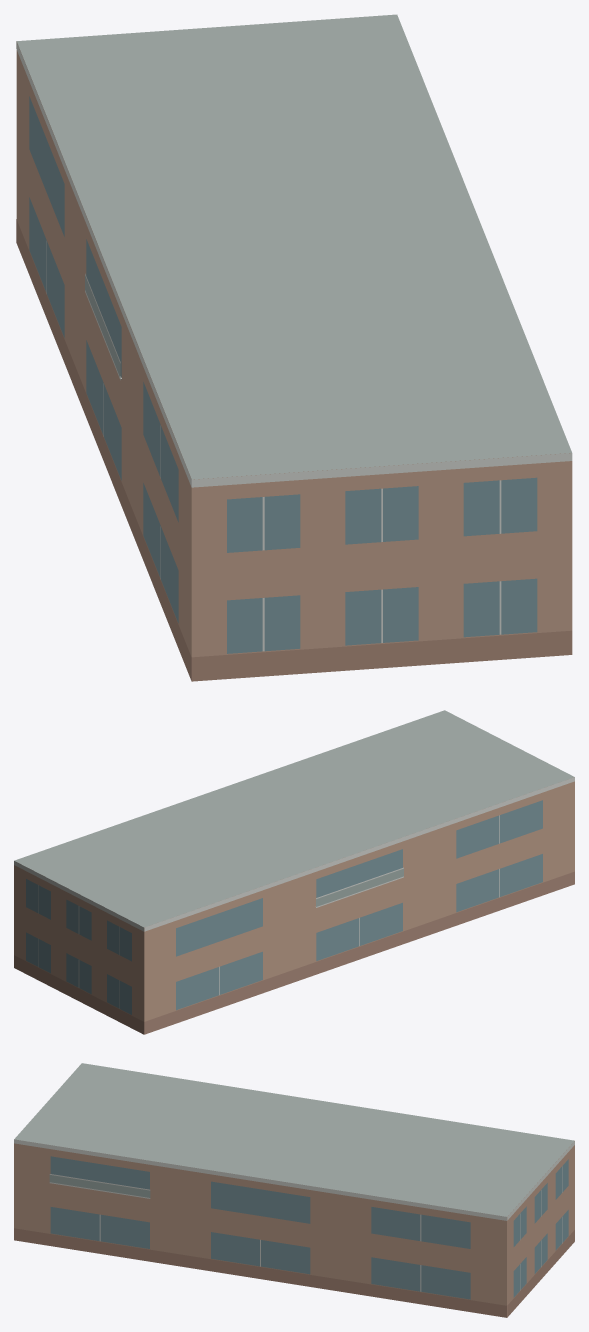
Rendered from survey-upis-32665504.glb.
3 renders of one model, top to bottom at view 1: azimuth 30°, elevation 25°; view 2: azimuth 150°, elevation 25°; view 3: azimuth 270°, elevation 25°, orthographic. The views are drawn at different scales.
Visible parts, largest first — view 1: survey-upis-32665504.tmp; view 2: survey-upis-32665504.tmp; view 3: survey-upis-32665504.tmp.
Part boxes in pixels (<box>): survey-upis-32665504.tmp: <box>16,14,572,681</box>; survey-upis-32665504.tmp: <box>14,710,574,1034</box>; survey-upis-32665504.tmp: <box>14,1063,574,1317</box>.
Bounding box in the file's own units: 19.95 × 6.1 × 30.72.
